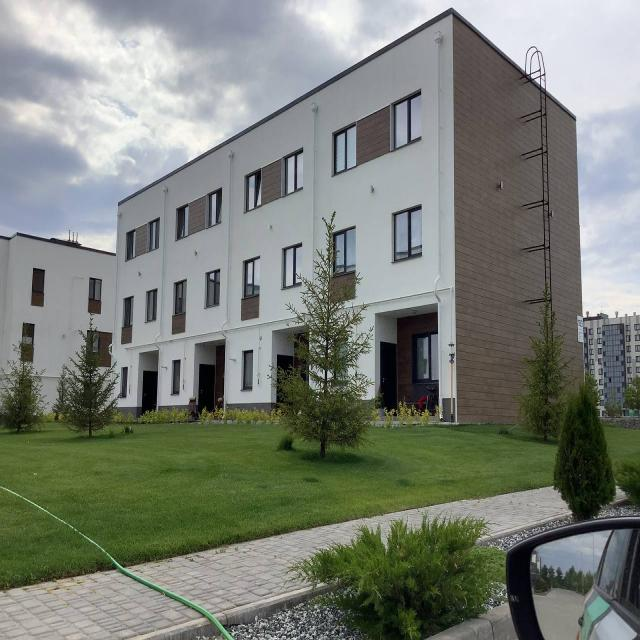Building: (109, 8, 585, 426)
